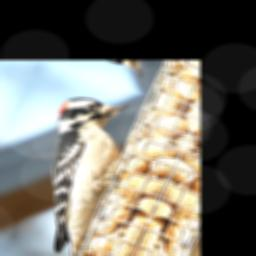Woodpecker: (0, 86, 151, 256)
